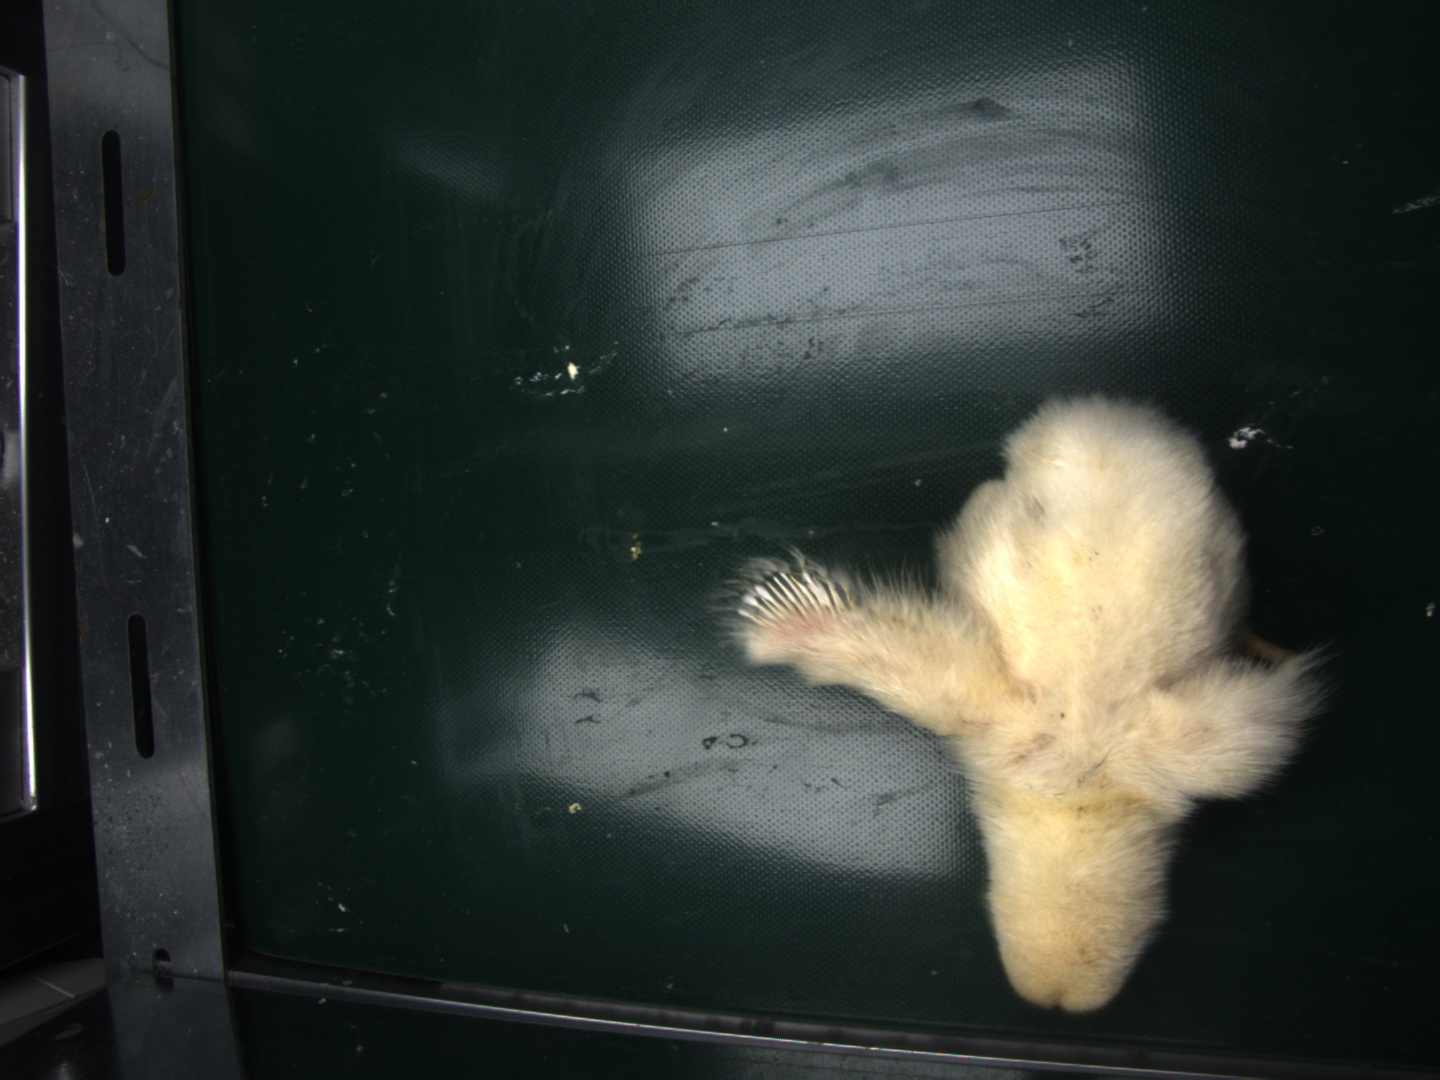male: (739, 567, 833, 630)
